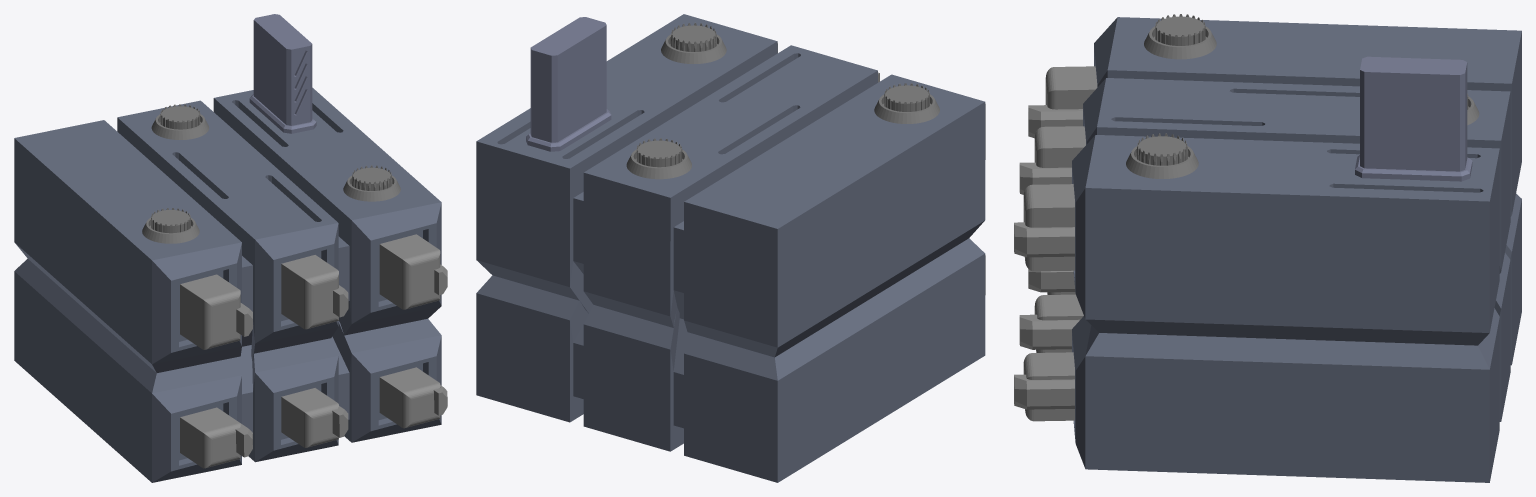
File: 最左边次要烟囱_001.fbx
The picture shows the model from 3 angles, left to right: view 1: azimuth 30°, elevation 25°; view 2: azimuth 150°, elevation 25°; view 3: azimuth 270°, elevation 25°; orthographic projection. The views are drawn at different scales.
Visible parts, largest first — view 1: 最左边次要烟囱.001; view 2: 最左边次要烟囱.001; view 3: 最左边次要烟囱.001.
Boxes of the visible parts, x1,y1,x2,y2 form: 最左边次要烟囱.001: (14, 14, 447, 482); 最左边次要烟囱.001: (476, 14, 985, 482); 最左边次要烟囱.001: (1014, 14, 1521, 482).
Bounding box in the file's own units: 3.34 × 3.25 × 3.88.
